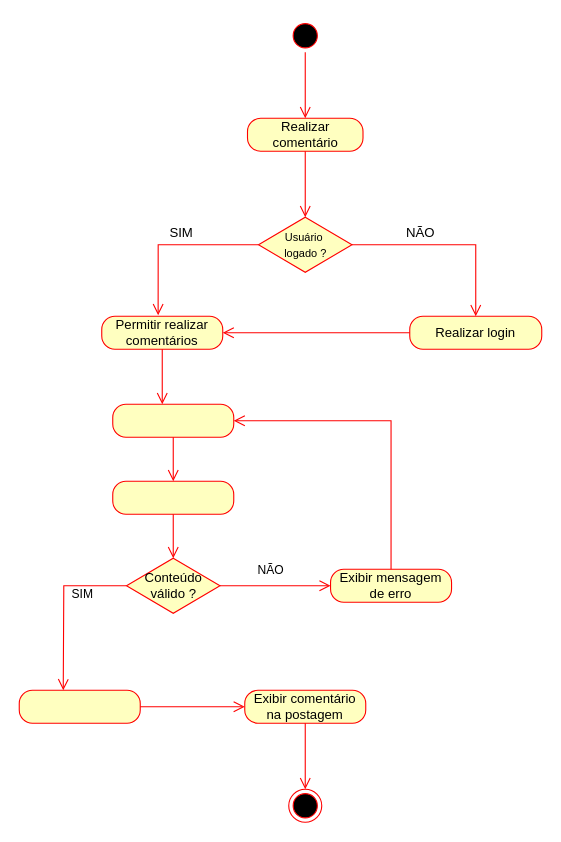
Image size: 561x842. Some labels were removed from this diagram. Each missing label, with the box of its shape:
Digitar conteúdo do comentário: (112, 403, 234, 437)
Enviar comentário: (112, 480, 234, 514)
Publicar comentário: (18, 689, 140, 723)
